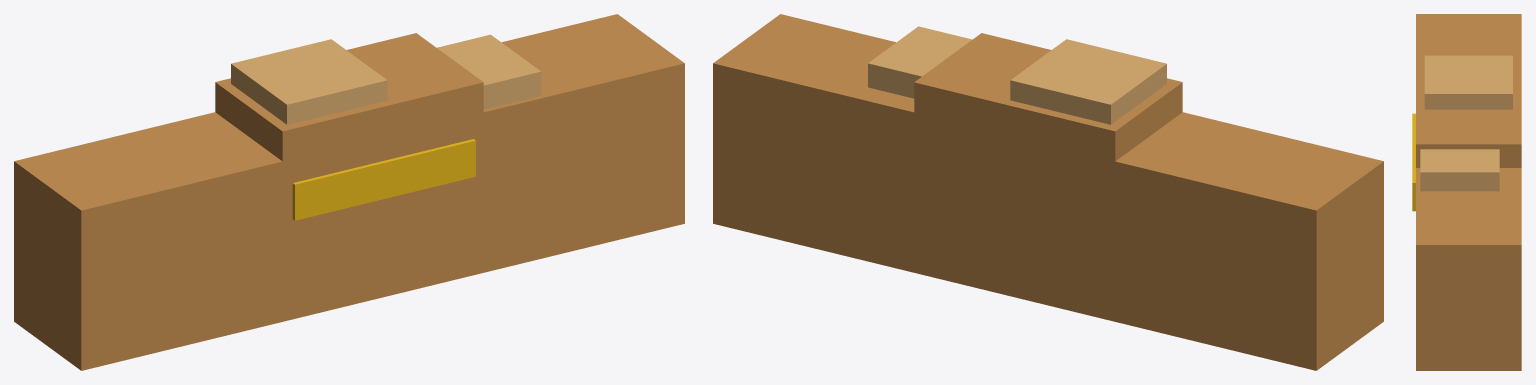
The model's file is env_r5_sandstone_wall.glb.
3 renders of one model, left to right at view 1: azimuth 30°, elevation 25°; view 2: azimuth 150°, elevation 25°; view 3: azimuth 270°, elevation 25°, orthographic. The views are drawn at different scales.
Visible parts, largest first — view 1: env_r5_sandstone_wall; view 2: env_r5_sandstone_wall; view 3: env_r5_sandstone_wall.
Boxes of the visible parts, <box> form: env_r5_sandstone_wall: <box>14,14,684,370</box>; env_r5_sandstone_wall: <box>713,14,1383,370</box>; env_r5_sandstone_wall: <box>1412,14,1521,370</box>.
Bounding box in the file's own units: 3 × 1 × 0.6.
Materials: 1 (1 with a texture image).
